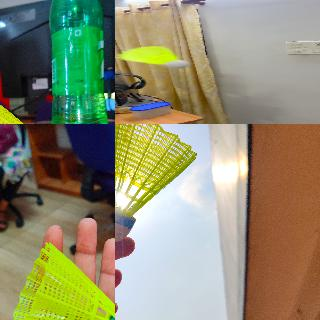shuttlecock: (115, 124, 198, 242), (5, 240, 114, 319), (0, 97, 65, 123), (118, 46, 189, 68)
